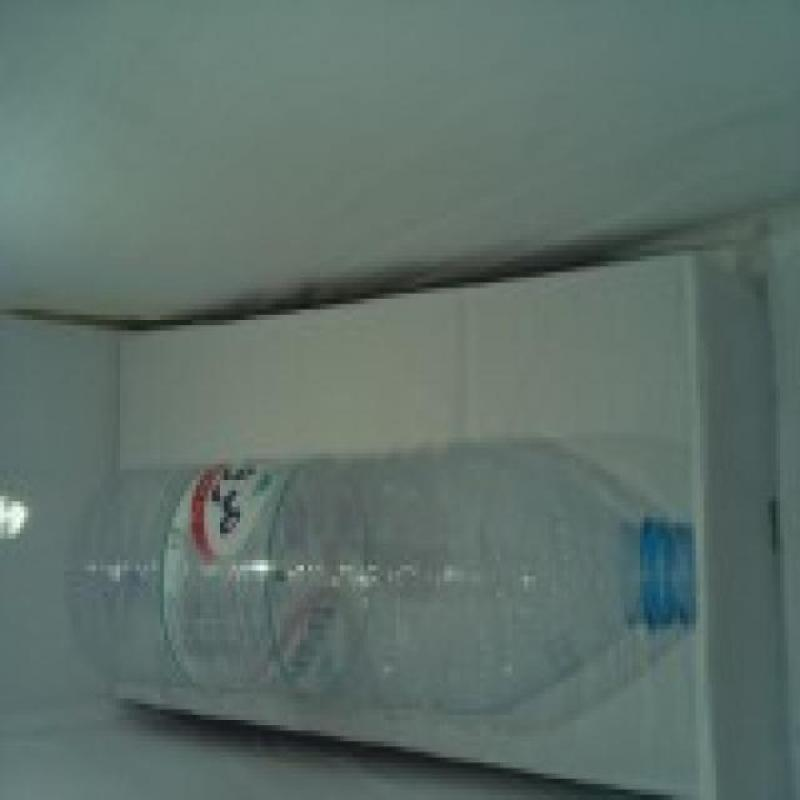botella: (72, 443, 700, 714)
